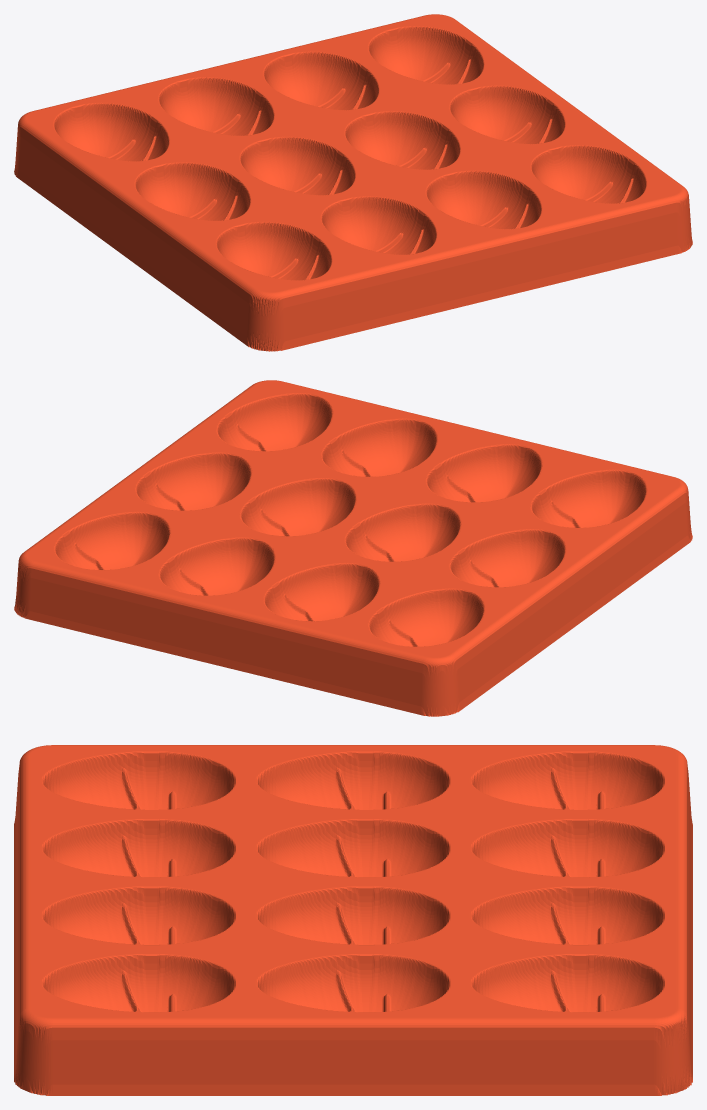
The model's file is mold.glb.
3 views of the same model, one above another, from view 1: azimuth 30°, elevation 25°; view 2: azimuth 150°, elevation 25°; view 3: azimuth 270°, elevation 25° (orthographic). The views are drawn at different scales.
Visible parts, largest first — view 1: geometry_0; view 2: geometry_0; view 3: geometry_0.
Part boxes in pixels (x1,y1,x2,y2): geometry_0: (14,14,692,351); geometry_0: (14,380,692,716); geometry_0: (14,745,692,1095).
Size of the model in its own units: 0.1587 by 0.0185 by 0.1598.
